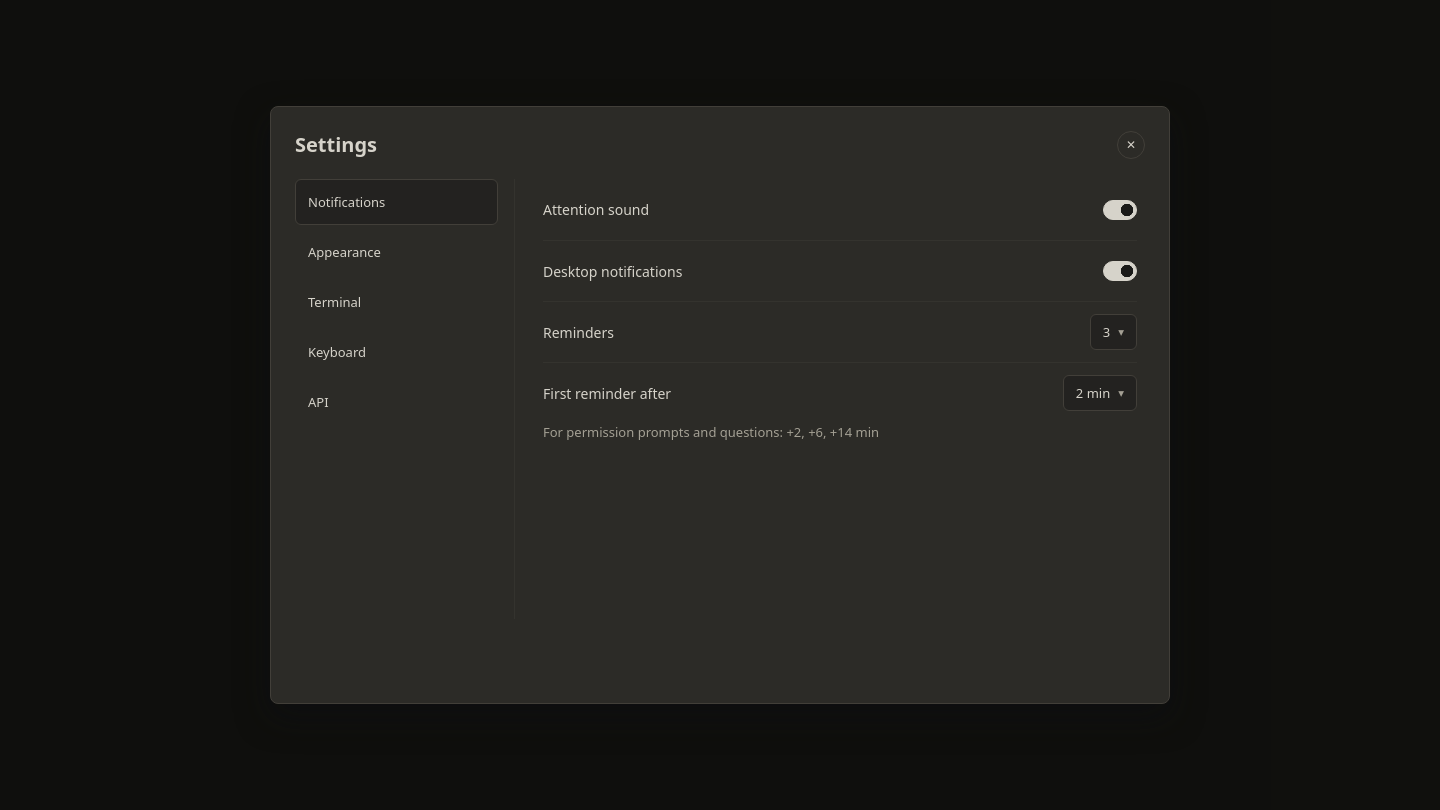
SettingsPanel — the local API block › a regenerate main could not persist keeps the old token and says so on the error line
Click the button "API". click: (396, 402)
box: [296,380,497,424]
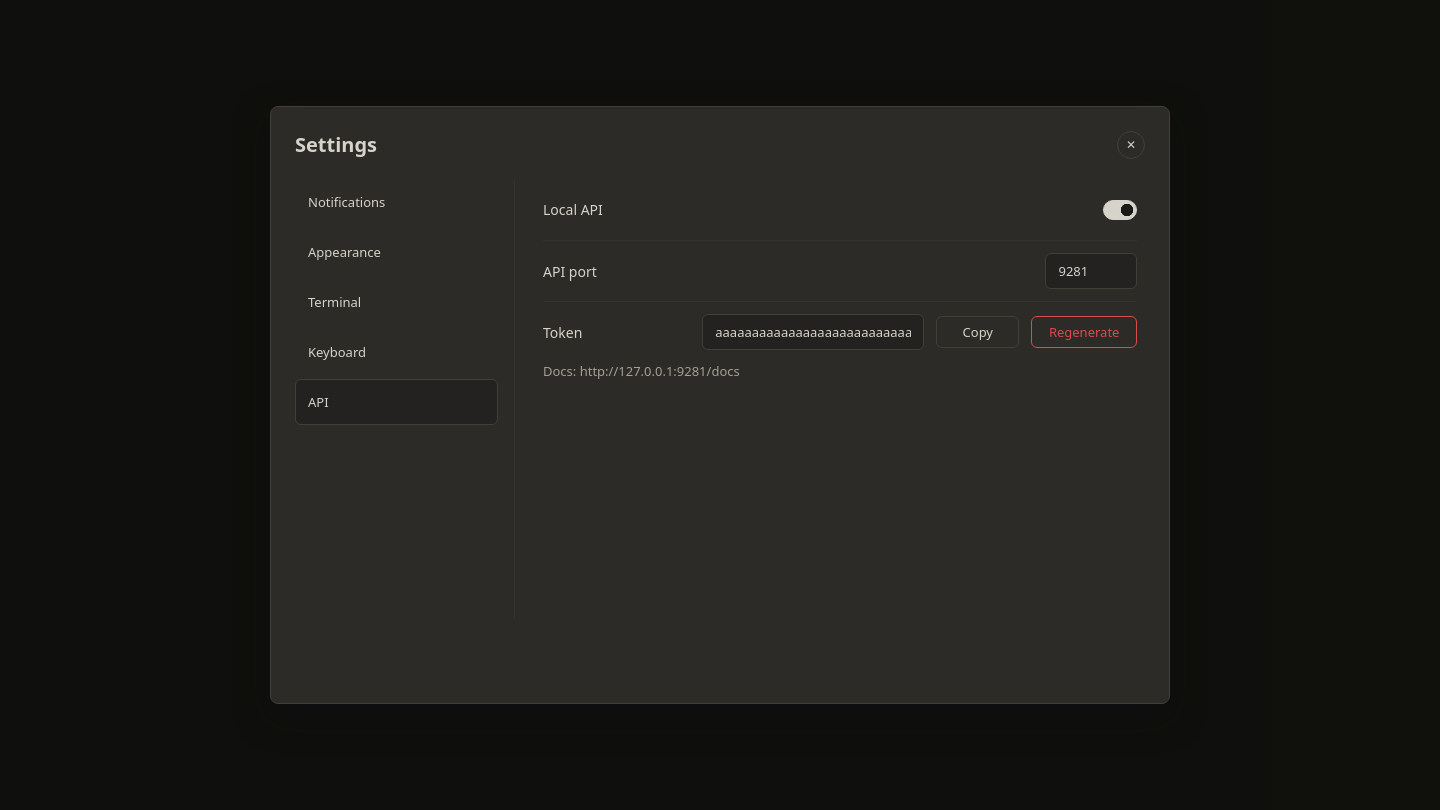
Click the button with test id "settings-api-regenerate". click: (1084, 332)
box: [1031,316,1137,348]
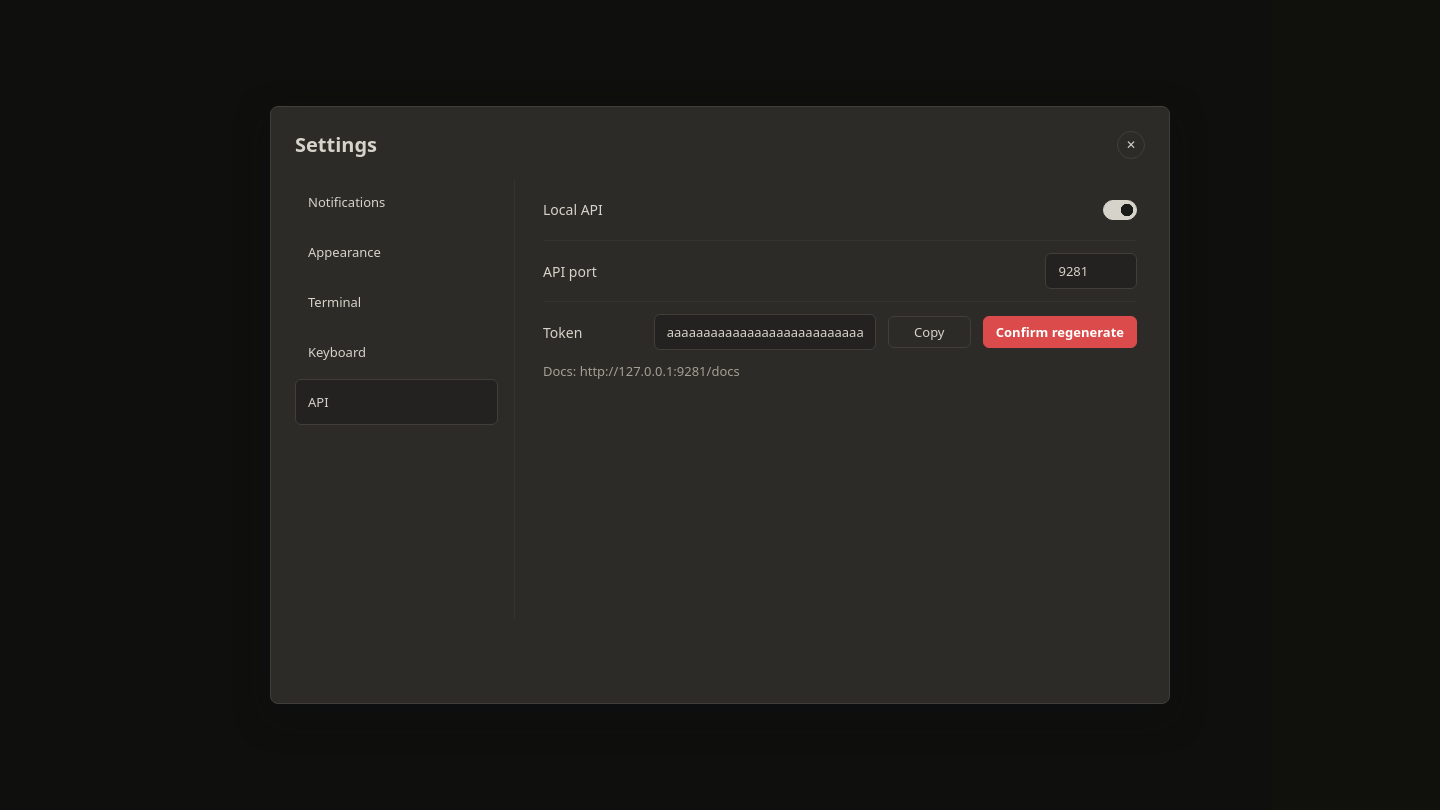
Click the button with test id "settings-api-regenerate". click: (1060, 332)
box: [983,316,1137,348]
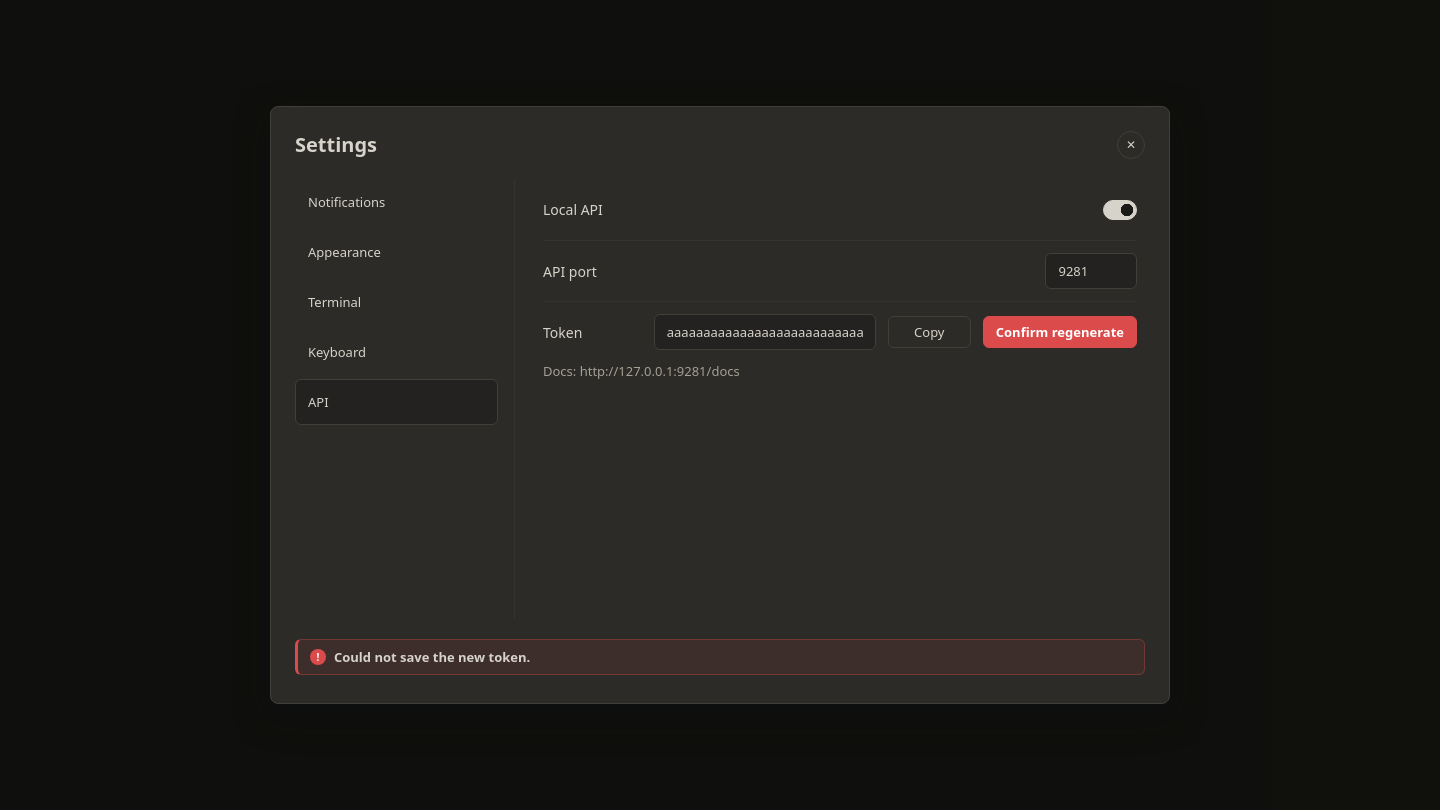
Expected: the button with test id "settings-api-regenerate" reads "Confirm regenerate", [983,316,1137,348]
Expected: the message with test id "settings-error" reads "Could not save the new token.", [334,648,530,666]
